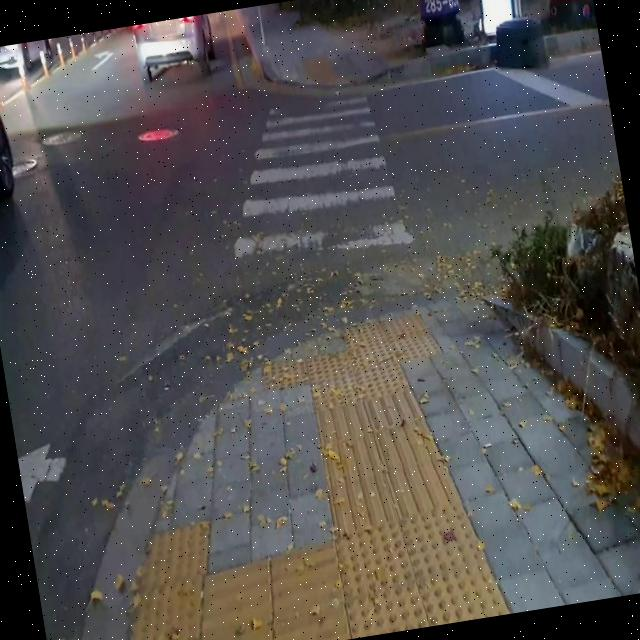crosswalk: (227, 91, 420, 272)
